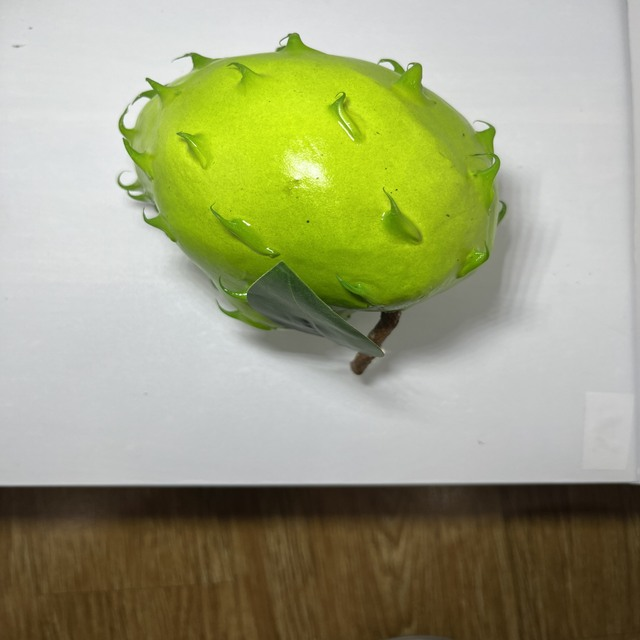Man cau: (99, 23, 517, 330)
